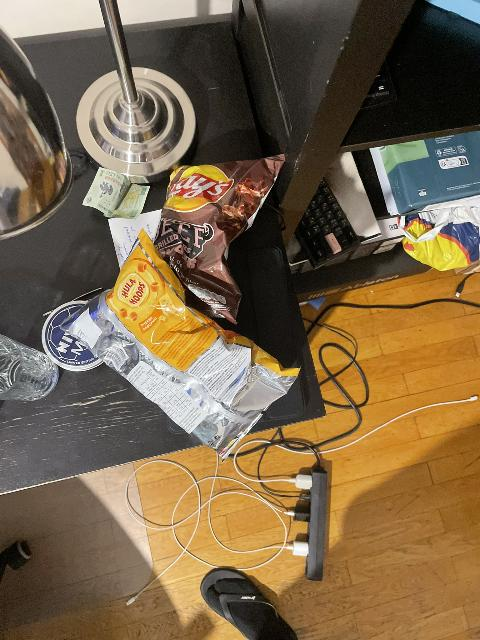Chio Hula Hoops Cheese 70g: (69, 231, 299, 464)
Lays Beef Grilled Ribs 125g: (155, 159, 284, 321)
